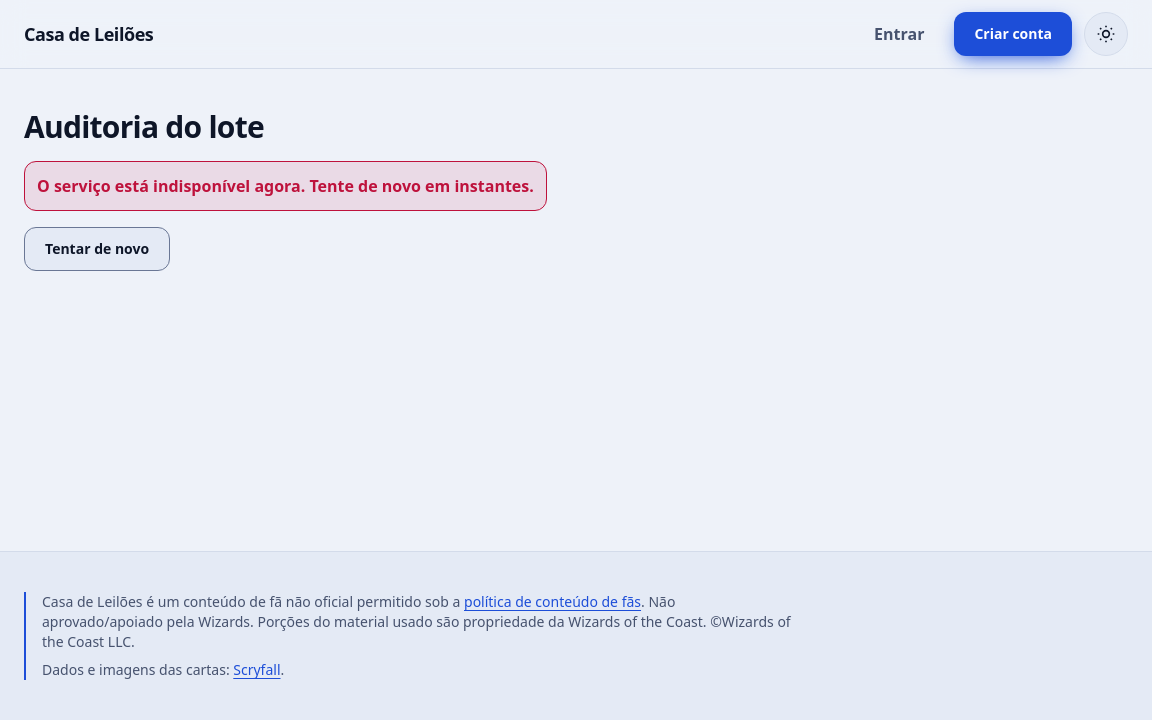
Test: /auditoria/:loteId › falha: mostra a mensagem do código e "Tentar de novo" refaz a consulta
Check: the text "O serviço está indisponível agora. Tente de novo em instantes." is shown, box [24, 161, 547, 211]
Click the button "Tentar de novo": (97, 249) [24, 227, 170, 271]
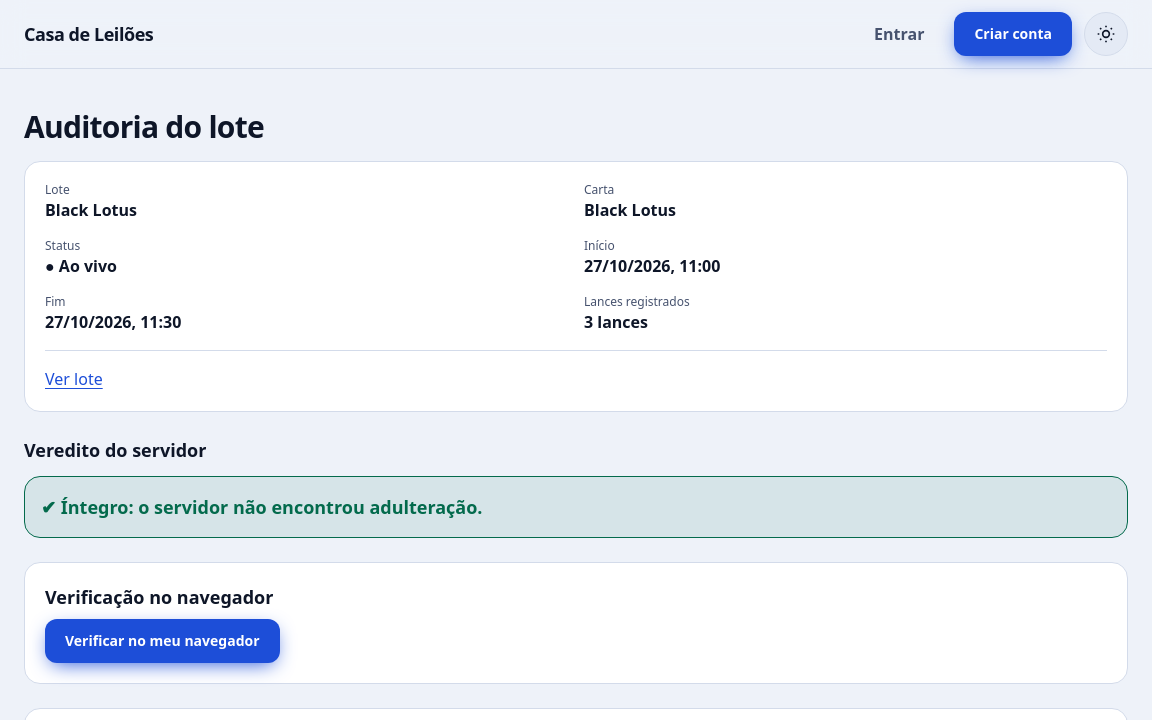
Check: the text "Íntegro: o servidor não encontrou adulteração." is shown, box [61, 495, 482, 519]
